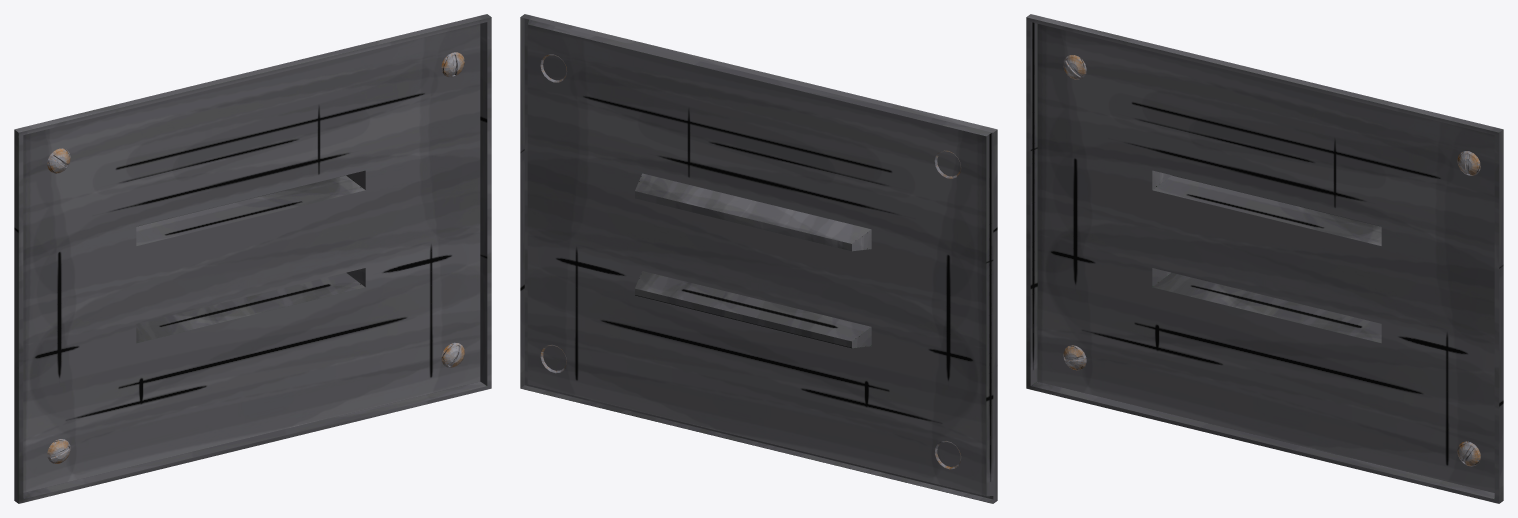
The model's file is ExteriorModel.FBX.
3 views of the same model, side by side, from view 1: azimuth 30°, elevation 25°; view 2: azimuth 150°, elevation 25°; view 3: azimuth 330°, elevation 25° (orthographic).
Visible parts, largest first — view 1: Plane001; view 2: Plane001; view 3: Plane001.
Boxes of the visible parts, box(x1,y1,x2,y2) form: Plane001: box(14, 14, 491, 503); Plane001: box(520, 14, 997, 503); Plane001: box(1026, 14, 1503, 503).
Size of the model in its own units: 82.5 by 5.37 by 61.87.
Materials: 2 (2 with a texture image).
